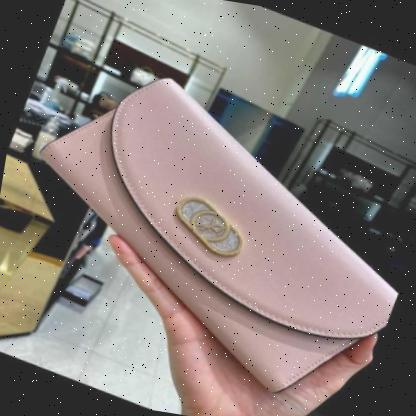bag: (6, 51, 416, 405)
